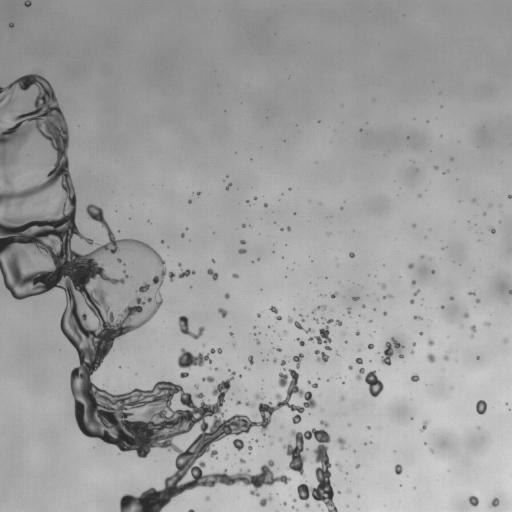droplet: (309, 317, 341, 350), (380, 337, 403, 365), (178, 315, 204, 339), (365, 370, 383, 397), (314, 350, 328, 363), (476, 400, 486, 414), (233, 439, 244, 450), (336, 437, 346, 449), (468, 495, 478, 506), (218, 308, 227, 317), (490, 497, 499, 506), (394, 464, 402, 474), (427, 353, 435, 362), (202, 376, 214, 382), (270, 305, 277, 313), (355, 357, 362, 365), (411, 374, 419, 381), (180, 372, 189, 378), (248, 355, 253, 364), (24, 0, 31, 6), (331, 292, 338, 298), (470, 325, 476, 332), (335, 462, 341, 469), (489, 227, 495, 233), (428, 339, 434, 345), (255, 394, 262, 399), (238, 249, 246, 253), (413, 315, 421, 319), (232, 273, 238, 278), (381, 283, 386, 289), (368, 343, 373, 349), (349, 252, 354, 257), (414, 290, 419, 295), (224, 293, 229, 298), (276, 315, 281, 320), (411, 280, 415, 286), (248, 445, 252, 451), (240, 240, 245, 244), (408, 264, 413, 268), (469, 291, 474, 295), (314, 318, 319, 322), (255, 339, 259, 344), (276, 347, 281, 351), (444, 355, 448, 360), (281, 360, 285, 365), (240, 459, 245, 463), (9, 23, 13, 27), (410, 299, 414, 303), (464, 313, 468, 317), (485, 322, 489, 326), (348, 365, 352, 369), (236, 400, 240, 404), (355, 464, 359, 468), (305, 503, 309, 507), (353, 297, 358, 300), (347, 308, 350, 313), (197, 191, 200, 195), (253, 196, 256, 200), (257, 313, 260, 317), (284, 330, 287, 334), (356, 331, 359, 335), (230, 332, 233, 336), (279, 437, 282, 441), (206, 496, 209, 500), (509, 289, 511, 294), (434, 166, 437, 169), (242, 224, 245, 227), (287, 227, 290, 230), (181, 233, 184, 236), (178, 263, 181, 266), (431, 270, 434, 273), (450, 296, 453, 299), (476, 299, 479, 302), (301, 318, 304, 321), (504, 339, 507, 342), (195, 385, 198, 388), (450, 158, 453, 160), (509, 195, 511, 198), (472, 199, 475, 201), (188, 200, 191, 202), (264, 204, 267, 206), (212, 259, 214, 262), (362, 305, 365, 307), (383, 312, 386, 314), (420, 332, 422, 335), (412, 343, 415, 345), (273, 359, 276, 361), (215, 367, 217, 370), (348, 423, 350, 426), (367, 426, 370, 428), (337, 491, 340, 493), (293, 499, 296, 501), (283, 502, 286, 504), (295, 509, 298, 511), (161, 241, 163, 243), (441, 306, 443, 308), (254, 326, 256, 328), (471, 335, 473, 337), (411, 351, 413, 353), (341, 397, 343, 399), (292, 506, 294, 508)
ligament: (0, 74, 316, 511), (283, 420, 338, 511), (177, 348, 222, 368), (287, 316, 313, 332), (178, 269, 195, 278), (260, 495, 272, 506), (207, 269, 218, 280), (1, 99, 11, 109), (312, 305, 326, 312), (356, 368, 364, 380), (295, 337, 305, 346), (307, 381, 317, 388), (116, 258, 125, 265), (245, 401, 255, 407), (421, 421, 427, 431), (383, 294, 391, 298), (226, 183, 231, 189), (188, 509, 194, 511)
